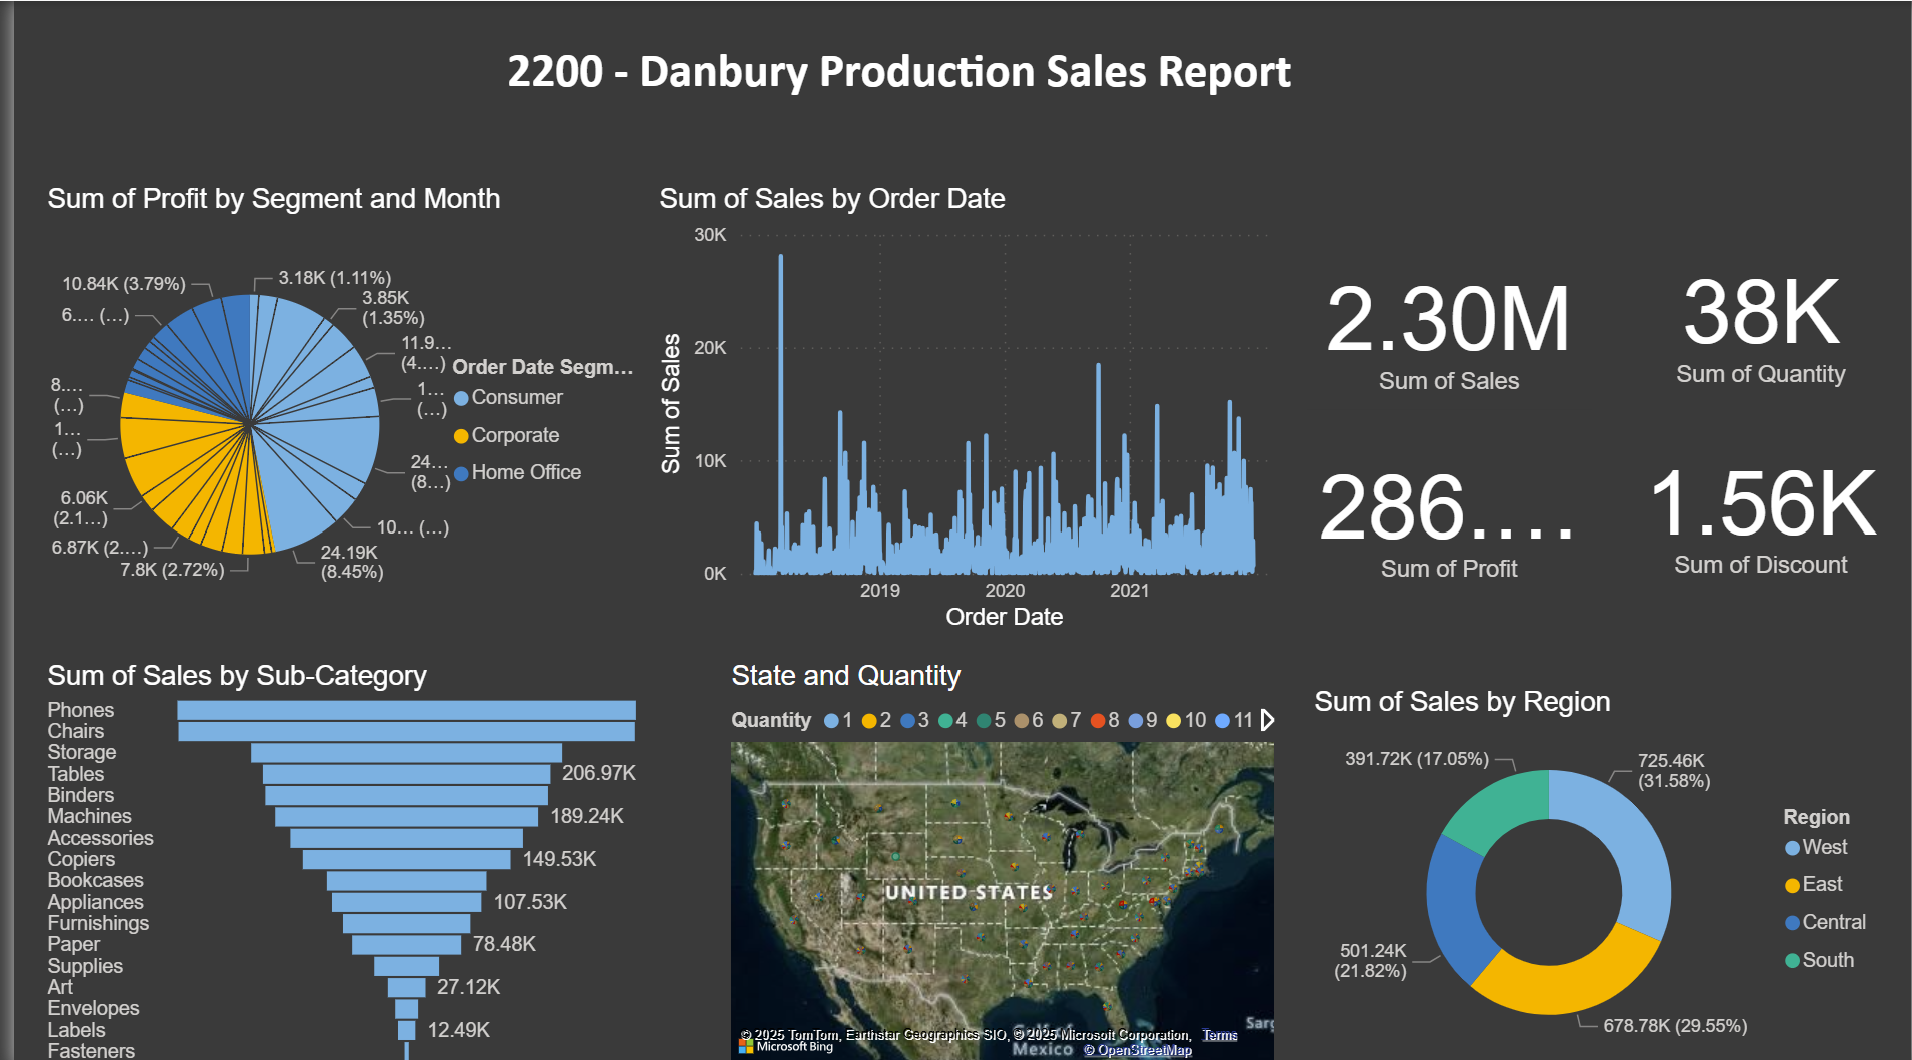

Layout of this report page (visuals, bound fields, positions):
{"tool":"powerbi","page":{"name":"Page 1","canvas":[1280,720],"ordinal":0},"visuals":[{"type":"funnel","fields":{"Category":["Orders.Sub-Category"],"Y":["Sum(Orders.Sales)"]},"box":[18.2,444.4,412.5,277.5],"z":0},{"type":"map","fields":{"Category":["Orders.State"],"Series":["Orders.Quantity"]},"box":[479.2,444.4,376.1,280.6],"z":1000},{"type":"pieChart","fields":{"Category":["Orders.Segment","Orders.Order Date.Variation.Date Hierarchy.Month"],"Series":["Orders.Order Date"],"Y":["Sum(Orders.Profit)"]},"box":[18.2,122.8,412.5,304.8],"z":2000},{"type":"lineChart","fields":{"Category":["Orders.Order Date"],"Y":["Sum(Orders.Sales)"]},"box":[430.7,122.8,424.6,306.4],"z":3000},{"type":"card","fields":{"Values":["Sum(Orders.Sales)"]},"box":[872,162.3,192.6,113.7],"z":4000},{"type":"card","fields":{"Values":["Sum(Orders.Profit)"]},"box":[872,291.2,192.6,107.7],"z":5000},{"type":"card","fields":{"Values":["Sum(Orders.Quantity)"]},"box":[1079.8,162.3,200.2,104.6],"z":6000},{"type":"card","fields":{"Values":["Sum(Orders.Discount)"]},"box":[1079.8,288.2,200.2,110.7],"z":7000},{"type":"donutChart","fields":{"Category":["Orders.Region","Orders.State"],"Y":["Sum(Orders.Sales)"]},"box":[872,462.6,392.8,257.8],"z":8000},{"type":"textbox","box":[97.1,21.2,1000.9,60.7],"z":9000}]}

Visuals, with their boxes in screenshot pixels (x1, y1, x2, y2), scaled from the page's 1280x720 canvas onto the 1912x1060 screenshot:
funnel - Orders.Sub-Category x Sum(Orders.Sales): x1=27, y1=654, x2=643, y2=1059
map - Orders.State x Orders.Quantity: x1=716, y1=654, x2=1278, y2=1059
pieChart - Orders.Segment x Orders.Order Date.Variation.Date Hierarchy.Month: x1=27, y1=181, x2=643, y2=630
lineChart - Orders.Order Date x Sum(Orders.Sales): x1=643, y1=181, x2=1278, y2=632
card - Sum(Orders.Sales): x1=1303, y1=239, x2=1590, y2=406
card - Sum(Orders.Profit): x1=1303, y1=429, x2=1590, y2=587
card - Sum(Orders.Quantity): x1=1613, y1=239, x2=1911, y2=393
card - Sum(Orders.Discount): x1=1613, y1=424, x2=1911, y2=587
donutChart - Orders.Region x Orders.State: x1=1303, y1=681, x2=1889, y2=1059
textbox: x1=145, y1=31, x2=1640, y2=121
